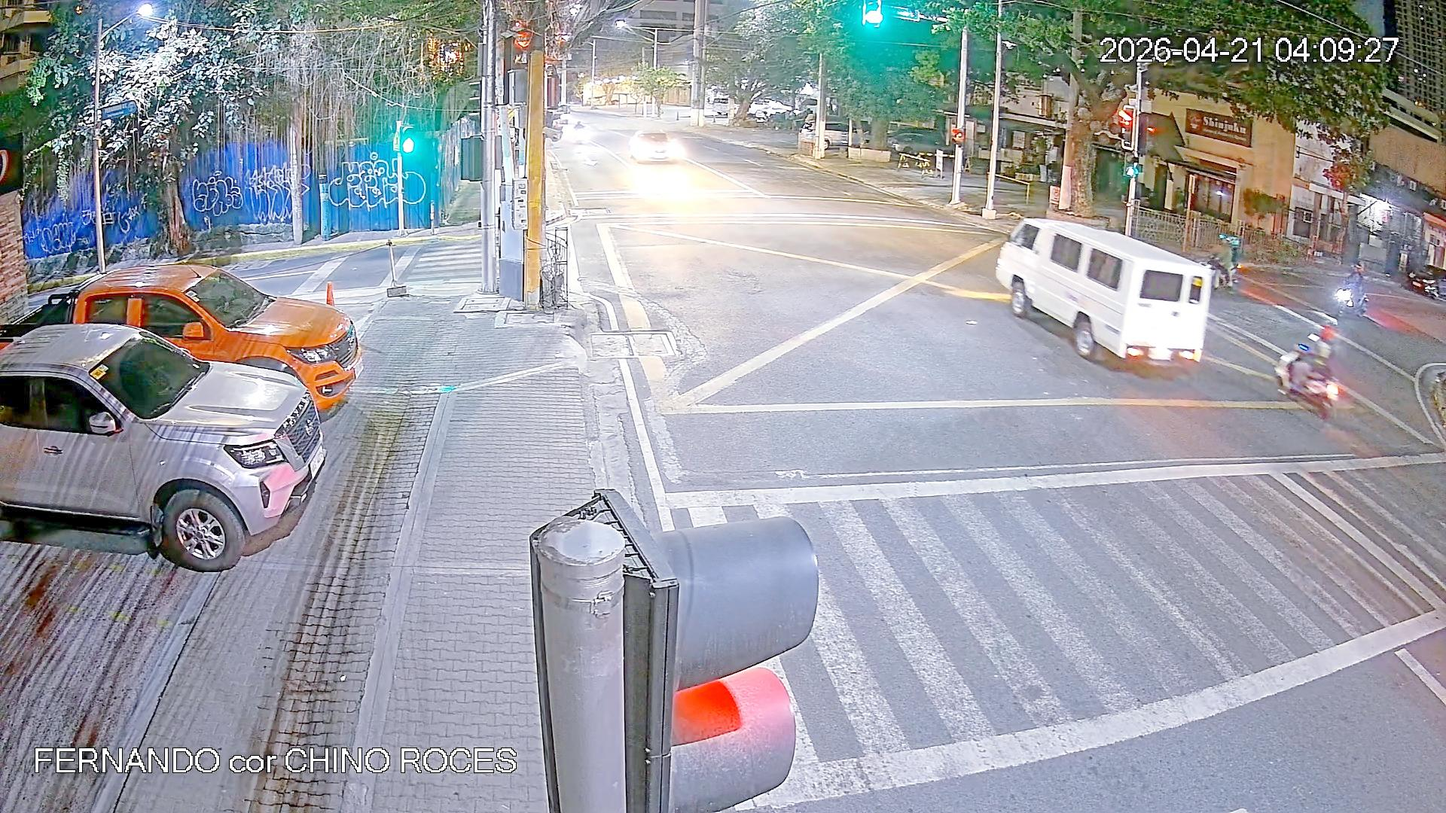Car: (0, 314, 365, 591), (47, 244, 389, 425), (973, 205, 1225, 417), (633, 118, 693, 182), (800, 113, 874, 157), (699, 91, 737, 133)
Motor: (1259, 301, 1356, 440), (1300, 244, 1396, 322)
